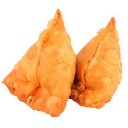samosa: (4, 8, 72, 113), (74, 18, 124, 109)
